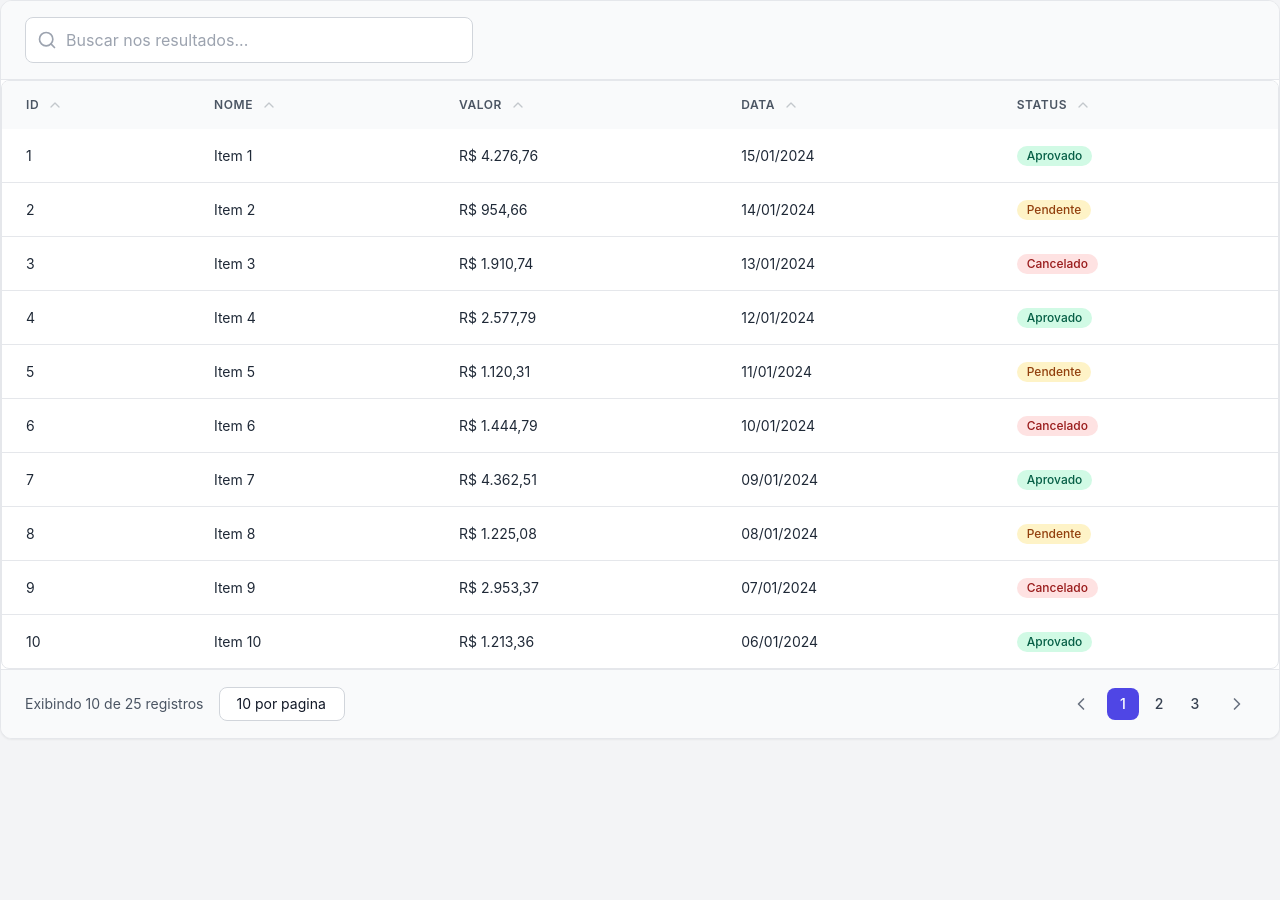
Scenario: DataTable › Pagination › should reset to first page when filtering
# Navigate to page 2 first
Select "10 por pagina" in the dropdown: (282, 704) [220, 687, 346, 721]
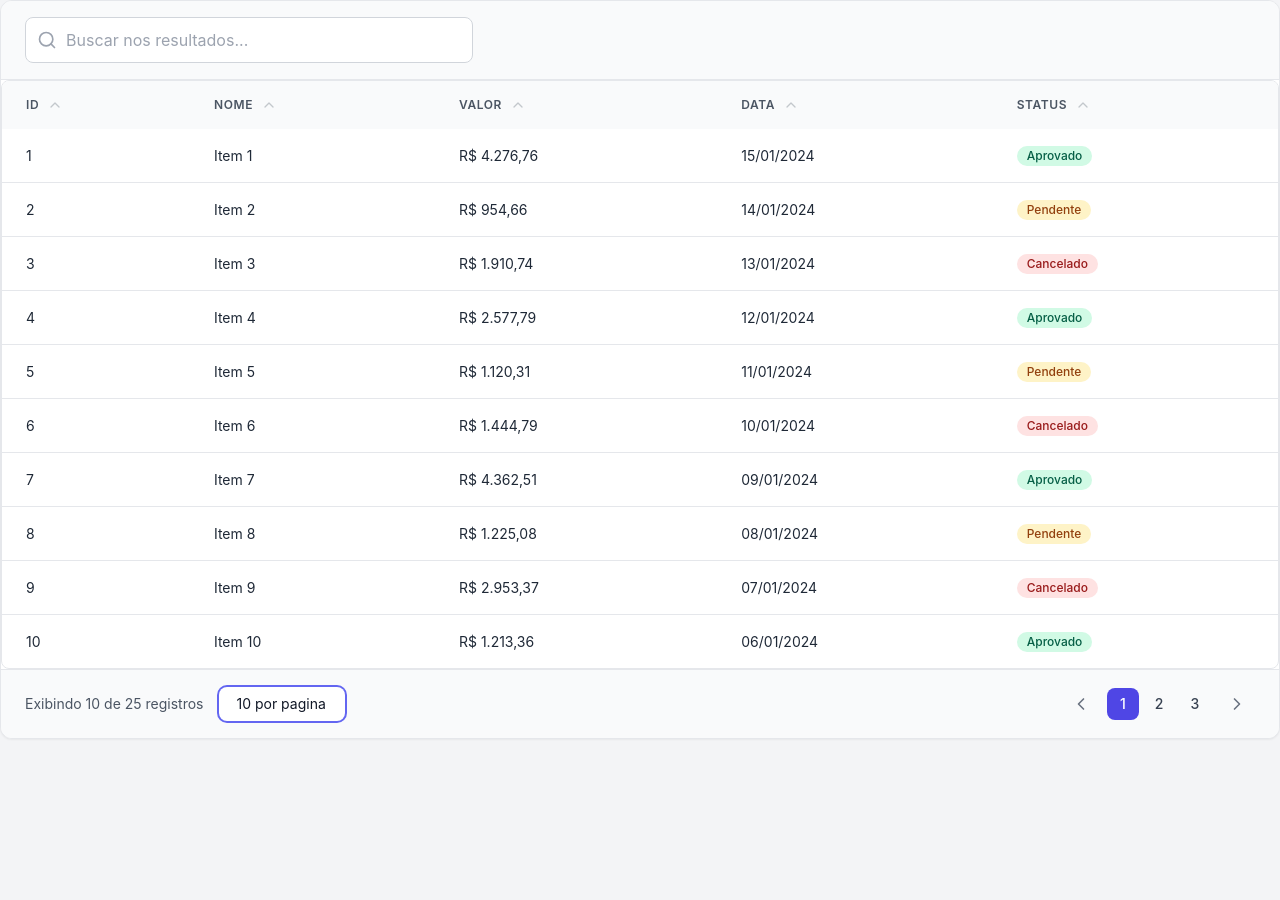
# Click page 2
Click the button "2": (1159, 704) [1143, 688, 1175, 720]
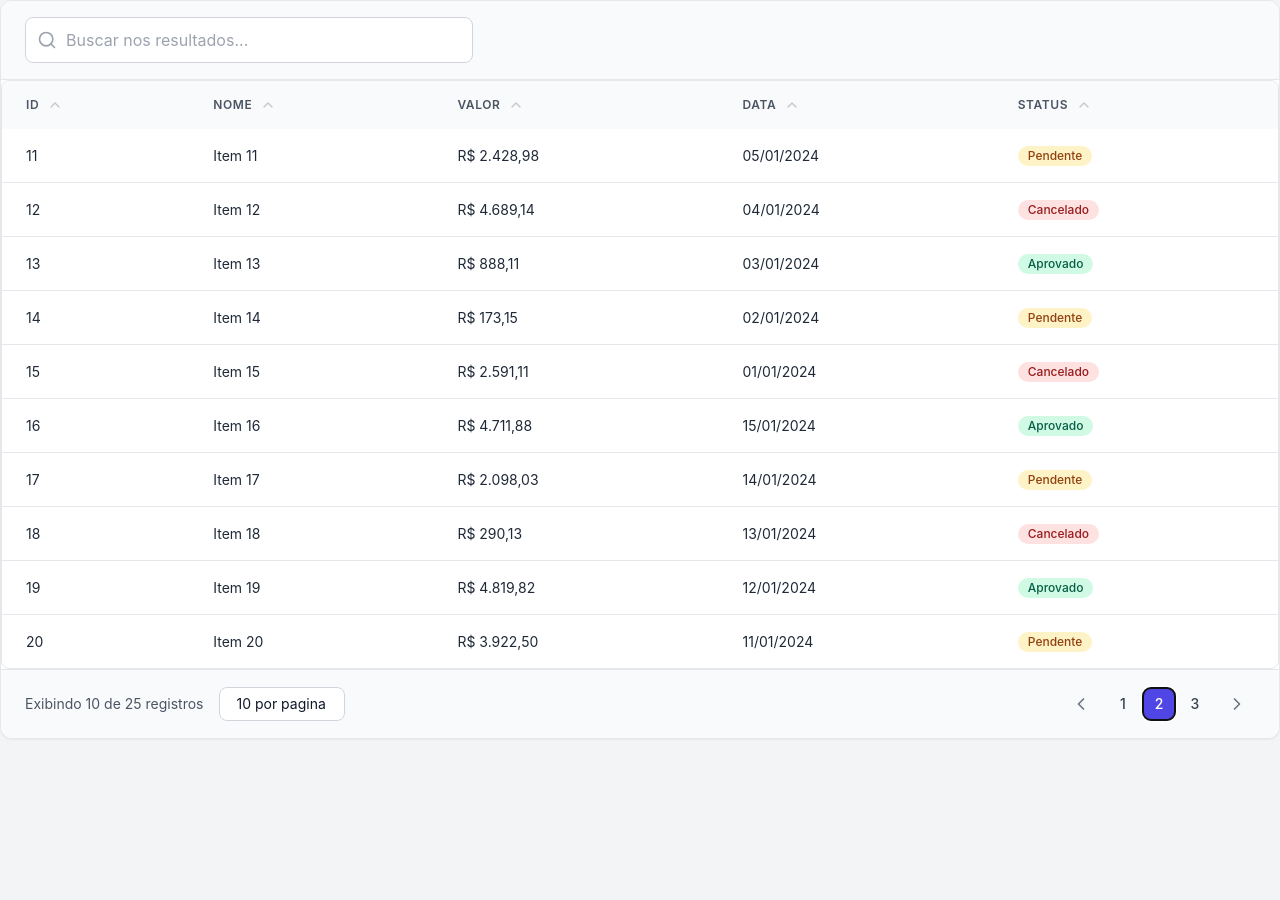
# Now filter with a more specific term
In the field with placeholder "Buscar nos resultados...": (249, 40) [25, 17, 473, 63], type "Item 25"
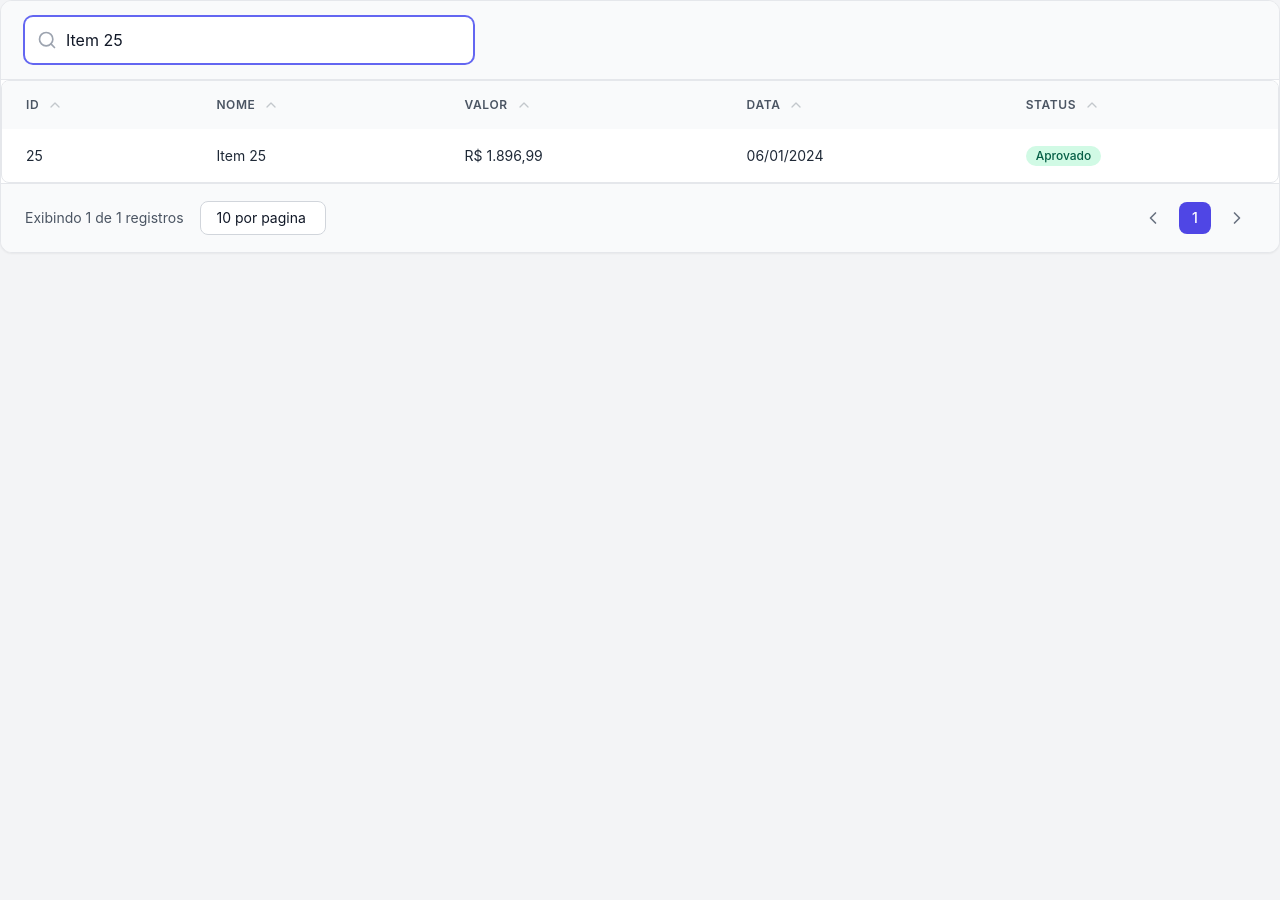
expect the text "Item 25" is shown: met, box [192, 129, 441, 182]
